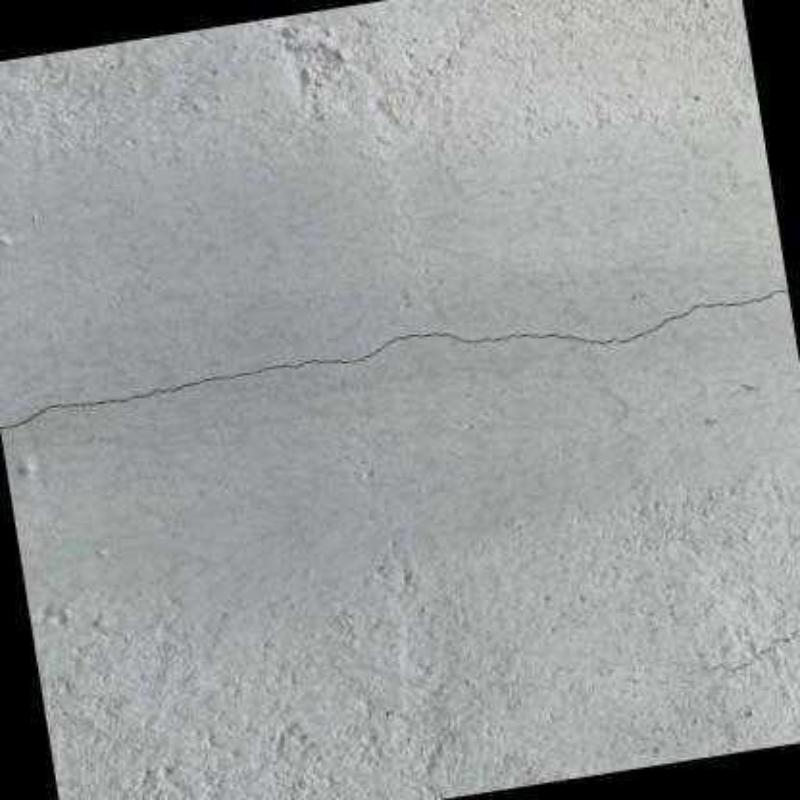pothole: (2, 286, 790, 430)
